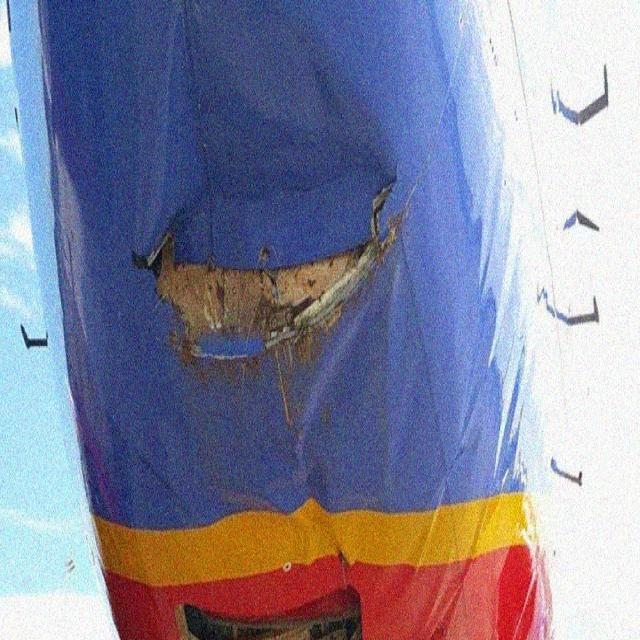crack: (143, 156, 414, 389)
